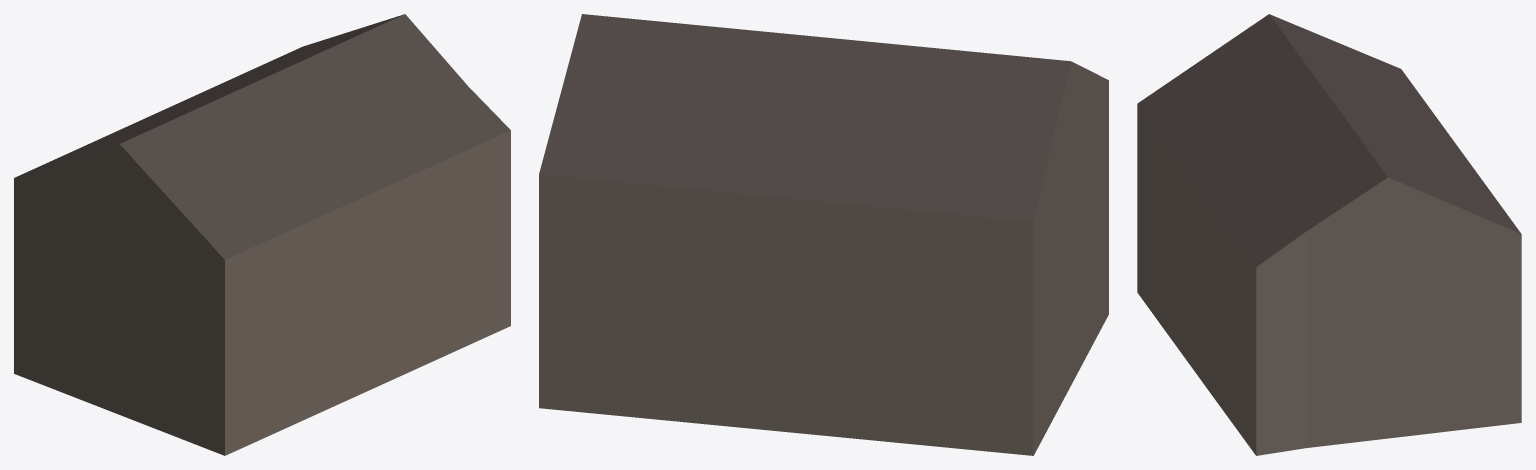
The picture shows the model from 3 angles, left to right: view 1: azimuth 30°, elevation 25°; view 2: azimuth 150°, elevation 25°; view 3: azimuth 270°, elevation 25°; orthographic projection. The views are drawn at different scales.
Parts seen in each view (by area): view 1: HP-w1198840840; view 2: HP-w1198840840; view 3: HP-w1198840840.
Part boxes in pixels (bbox=[...]): HP-w1198840840: bbox=[14, 14, 510, 455]; HP-w1198840840: bbox=[539, 14, 1108, 455]; HP-w1198840840: bbox=[1137, 14, 1521, 455].
Size of the model in its own units: 13.52 by 8.3 by 11.08.
